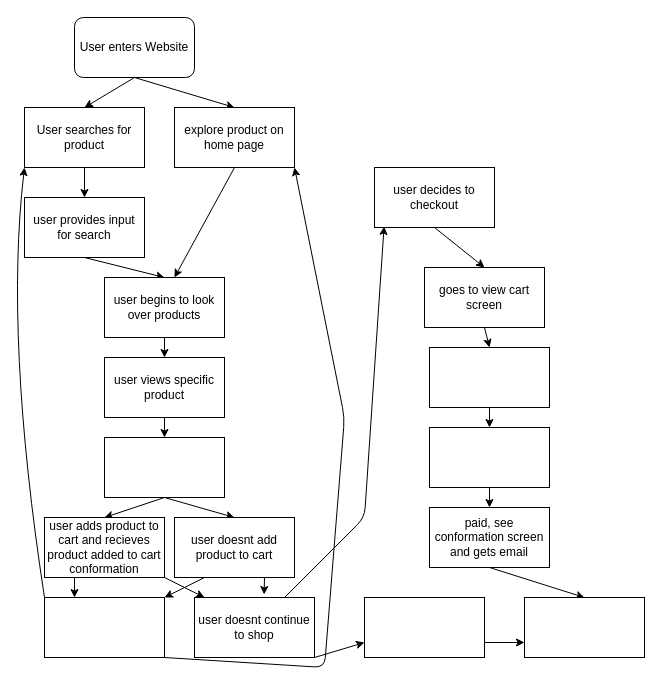
Image size: 662x693. Some labels were removed from this diagram. Here are the shapes that lost their labels. From the top down, the centre of each, then its label:
At point (489, 377): "goes to view payment screen".
At point (164, 467): "products webpage opens".
At point (489, 457): "gives input of payment info".
At point (104, 627): "user contines to shop".
At point (424, 627): "user decides not to checkout".
At point (584, 627): "leaves website".
